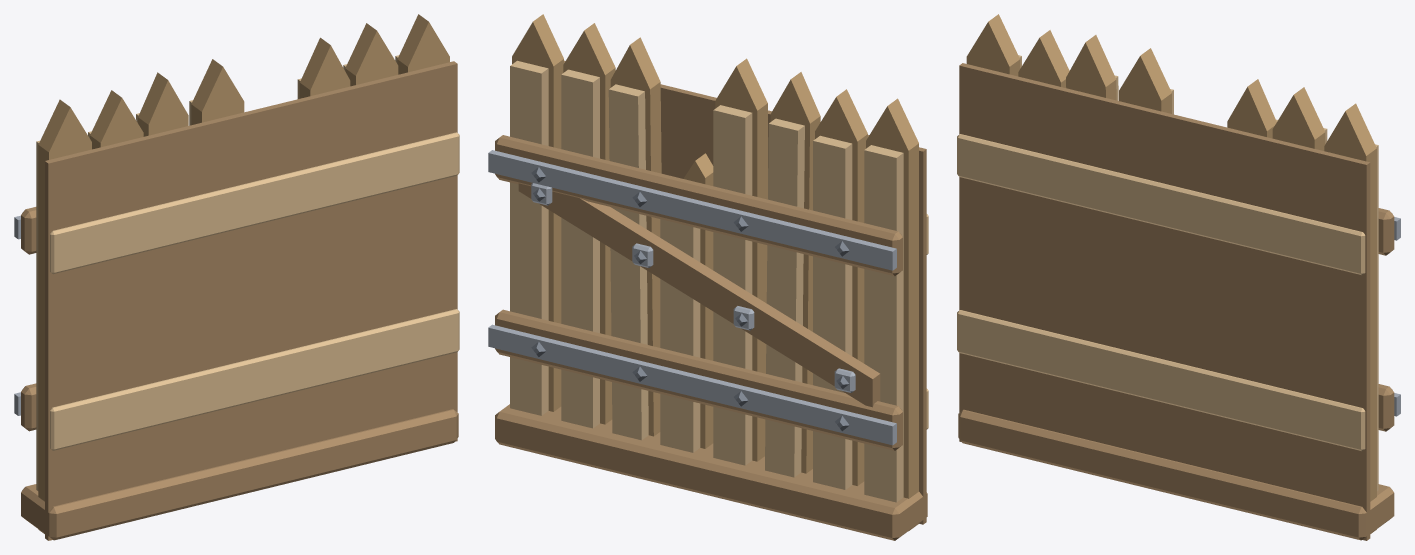
File: WoodenWall.fbx
3 renders of one model, left to right at view 1: azimuth 30°, elevation 25°; view 2: azimuth 150°, elevation 25°; view 3: azimuth 330°, elevation 25°, orthographic.
Parts seen in each view (by area): view 1: WoodenWall.Frame, WoodenWall.BackRails, WoodenWall.PlankCores, WoodenWall.RailsBrace, WoodenWall.PlankFaces; view 2: WoodenWall.PlankFaces, WoodenWall.PlankCores, WoodenWall.RailsBrace, WoodenWall.Frame, WoodenWall.IronBands, WoodenWall.BraceStraps, WoodenWall.Nails; view 3: WoodenWall.Frame, WoodenWall.BackRails, WoodenWall.PlankCores, WoodenWall.RailsBrace, WoodenWall.PlankFaces.
Part boxes in pixels (x1,y1,x2,y2): WoodenWall.Frame: [21, 61, 458, 540]; WoodenWall.BackRails: [50, 132, 459, 450]; WoodenWall.PlankCores: [38, 14, 449, 533]; WoodenWall.RailsBrace: [21, 207, 36, 431]; WoodenWall.PlankFaces: [36, 55, 399, 490]; WoodenWall.PlankFaces: [510, 60, 903, 502]; WoodenWall.PlankCores: [512, 14, 918, 531]; WoodenWall.RailsBrace: [495, 135, 902, 450]; WoodenWall.Frame: [495, 60, 927, 540]; WoodenWall.IronBands: [488, 150, 896, 445]; WoodenWall.BraceStraps: [531, 183, 855, 392]; WoodenWall.Nails: [531, 167, 849, 431]; WoodenWall.Frame: [958, 63, 1394, 540]; WoodenWall.BackRails: [957, 134, 1365, 450]; WoodenWall.PlankCores: [966, 14, 1376, 533]; WoodenWall.RailsBrace: [1378, 208, 1394, 431]; WoodenWall.PlankFaces: [1018, 55, 1378, 491].
Size of the model in its own units: 8 by 8 by 1.36.
